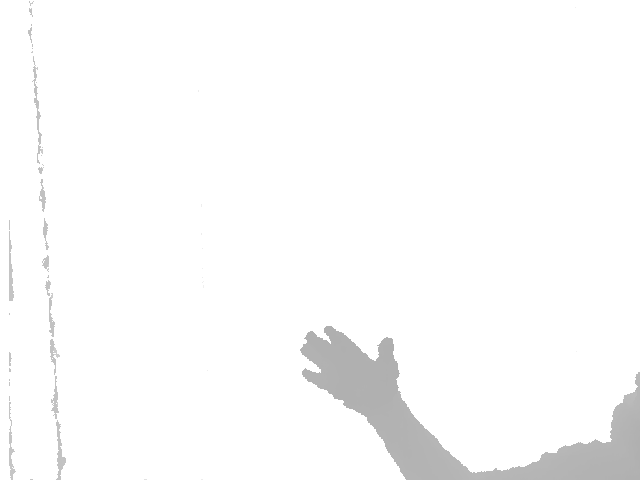hand: (300, 325, 403, 400)
person: (300, 324, 640, 480)
